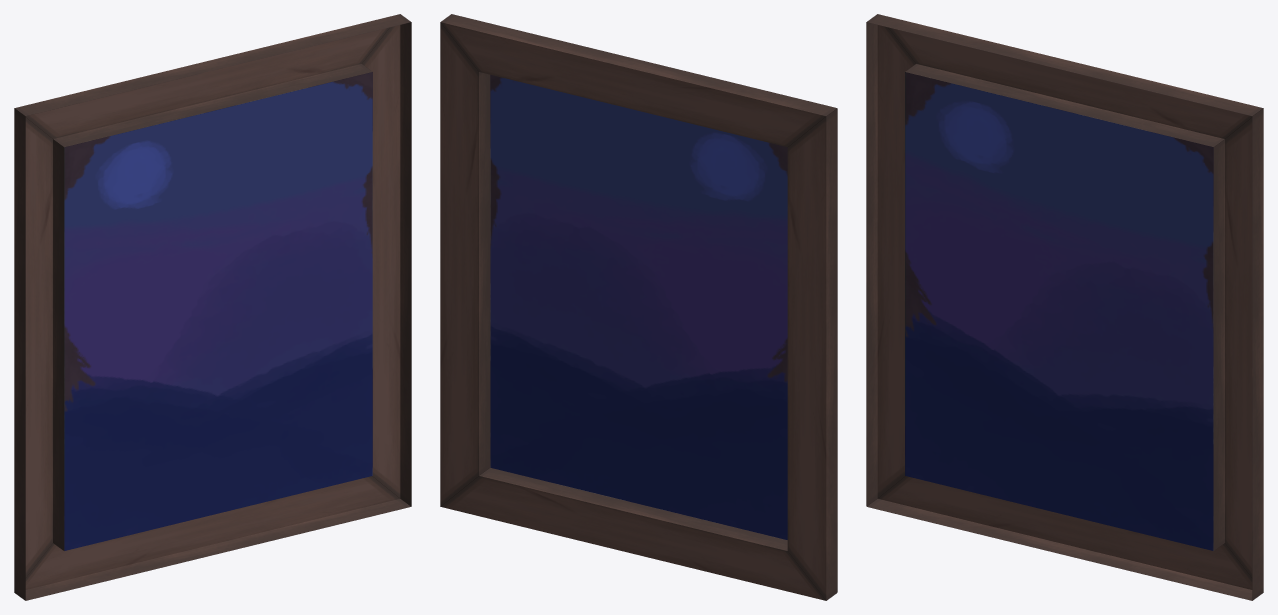
The model's file is medium_painting.fbx.
3 views of the same model, side by side, from view 1: azimuth 30°, elevation 25°; view 2: azimuth 150°, elevation 25°; view 3: azimuth 330°, elevation 25° (orthographic).
Parts seen in each view (by area): view 1: medium_painting; view 2: medium_painting; view 3: medium_painting.
Part boxes in pixels (left/top/right/bottom): medium_painting: left=14, top=14, right=411, bottom=600; medium_painting: left=440, top=14, right=837, bottom=600; medium_painting: left=866, top=14, right=1263, bottom=600.
Bounding box in the file's own units: 2 × 0.1 × 2.4.
